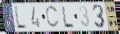3: (92, 4, 107, 30), (79, 5, 91, 29)
4: (31, 7, 41, 30)
C: (45, 5, 60, 29)
L: (13, 5, 28, 31), (61, 6, 75, 30)
